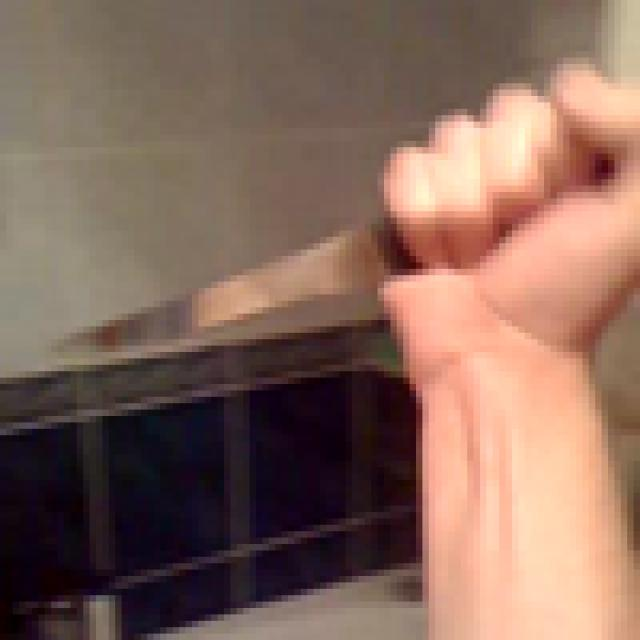Knife: (32, 58, 570, 416)
